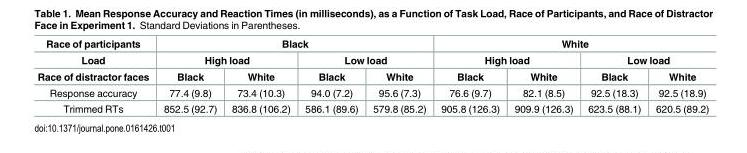table: (36, 37, 708, 114)
table column: (36, 37, 155, 114), (223, 37, 297, 114), (432, 37, 506, 114), (506, 37, 579, 114), (155, 37, 223, 114), (364, 37, 432, 114), (579, 37, 647, 114), (297, 37, 364, 114), (647, 37, 708, 114)
table column header: (36, 37, 708, 84)
table row: (36, 67, 708, 84), (36, 51, 708, 67), (36, 84, 708, 100), (36, 37, 708, 51), (36, 100, 708, 114)
table spanning cell: (36, 37, 155, 84), (155, 37, 432, 51), (432, 37, 708, 51), (432, 51, 579, 67), (155, 51, 297, 67), (297, 51, 432, 67), (579, 51, 708, 67)
